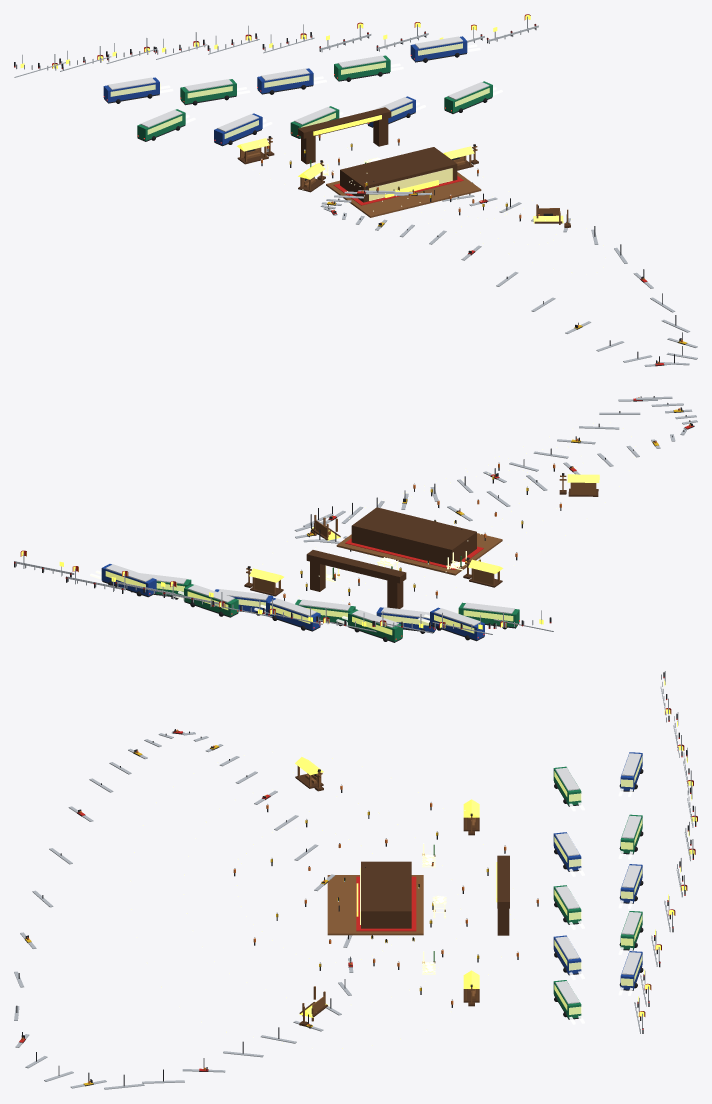
File: ul_w7_02_datanla_waterfall_alpine_coaster_plaza_and_tour_buses.glb
3 views of the same model, one above another, from view 1: azimuth 30°, elevation 25°; view 2: azimuth 150°, elevation 25°; view 3: azimuth 270°, elevation 25° (orthographic). The views are drawn at different scales.
Visible parts, largest first — view 1: ul_w7_02_cedar_dark_wood, ul_w7_02_galvanized_steel, ul_w7_02_bus_royal_blue, ul_w7_02_bus_emerald, ul_w7_02_warm_cafe_window, ul_w7_02_truck_box_white, ul_w7_02_pine_deck_wood, ul_w7_02_neon_sign_gold, ul_w7_02_dark_iron_frame, ul_w7_02_coaster_red, ul_w7_02_headlight_beam; view 2: ul_w7_02_cedar_dark_wood, ul_w7_02_galvanized_steel, ul_w7_02_truck_box_white, ul_w7_02_bus_royal_blue, ul_w7_02_bus_emerald, ul_w7_02_pine_deck_wood, ul_w7_02_warm_cafe_window, ul_w7_02_dark_iron_frame, ul_w7_02_neon_sign_gold, ul_w7_02_coaster_red, ul_w7_02_warm_string_bulb; view 3: ul_w7_02_cedar_dark_wood, ul_w7_02_galvanized_steel, ul_w7_02_pine_deck_wood, ul_w7_02_truck_box_white, ul_w7_02_bus_emerald, ul_w7_02_bus_royal_blue, ul_w7_02_warm_cafe_window, ul_w7_02_dark_iron_frame, ul_w7_02_neon_sign_gold, ul_w7_02_coaster_red, ul_w7_02_warm_string_bulb, ul_w7_02_headlight_beam.
Boxes of the visible parts, left/top/right/bottom form: ul_w7_02_cedar_dark_wood: left=237, top=107, right=570, bottom=227; ul_w7_02_galvanized_steel: left=14, top=16, right=697, bottom=366; ul_w7_02_bus_royal_blue: left=103, top=36, right=467, bottom=145; ul_w7_02_bus_emerald: left=137, top=55, right=492, bottom=140; ul_w7_02_warm_cafe_window: left=110, top=43, right=489, bottom=200; ul_w7_02_truck_box_white: left=108, top=36, right=520, bottom=214; ul_w7_02_pine_deck_wood: left=240, top=137, right=568, bottom=227; ul_w7_02_neon_sign_gold: left=20, top=15, right=563, bottom=223; ul_w7_02_dark_iron_frame: left=14, top=24, right=686, bottom=366; ul_w7_02_coaster_red: left=14, top=14, right=663, bottom=366; ul_w7_02_headlight_beam: left=160, top=44, right=502, bottom=127; ul_w7_02_cedar_dark_wood: left=244, top=488, right=598, bottom=608; ul_w7_02_galvanized_steel: left=14, top=396, right=697, bottom=634; ul_w7_02_truck_box_white: left=105, top=462, right=561, bottom=627; ul_w7_02_bus_royal_blue: left=101, top=564, right=484, bottom=639; ul_w7_02_bus_emerald: left=155, top=579, right=519, bottom=641; ul_w7_02_pine_deck_wood: left=246, top=473, right=596, bottom=593; ul_w7_02_warm_cafe_window: left=105, top=571, right=513, bottom=635; ul_w7_02_dark_iron_frame: left=14, top=396, right=694, bottom=642; ul_w7_02_neon_sign_gold: left=21, top=474, right=599, bottom=629; ul_w7_02_coaster_red: left=14, top=398, right=693, bottom=628; ul_w7_02_warm_string_bulb: left=262, top=401, right=673, bottom=601; ul_w7_02_cedar_dark_wood: left=295, top=774, right=509, bottom=1026; ul_w7_02_galvanized_steel: left=14, top=671, right=695, bottom=1089; ul_w7_02_pine_deck_wood: left=297, top=766, right=477, bottom=1024; ul_w7_02_truck_box_white: left=234, top=753, right=641, bottom=1003; ul_w7_02_bus_emerald: left=553, top=766, right=642, bottom=1018; ul_w7_02_bus_royal_blue: left=553, top=752, right=642, bottom=989; ul_w7_02_warm_cafe_window: left=360, top=756, right=642, bottom=1014; ul_w7_02_dark_iron_frame: left=16, top=672, right=696, bottom=1086; ul_w7_02_neon_sign_gold: left=295, top=680, right=696, bottom=1017; ul_w7_02_coaster_red: left=19, top=677, right=697, bottom=1071; ul_w7_02_warm_string_bulb: left=20, top=745, right=514, bottom=1088; ul_w7_02_headlight_beam: left=569, top=788, right=632, bottom=1024.
Bounding box in the file's own units: 121 × 43.07 × 128.
